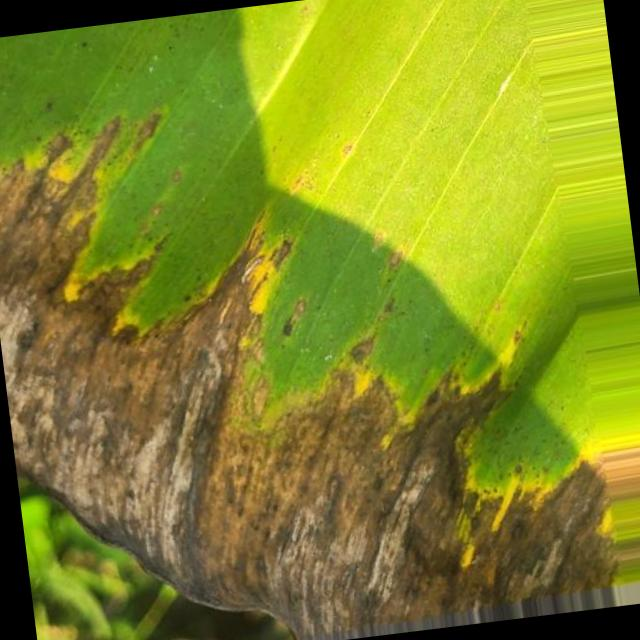Banana_Black_Sigatoka: (0, 103, 263, 579), (255, 330, 640, 640)
